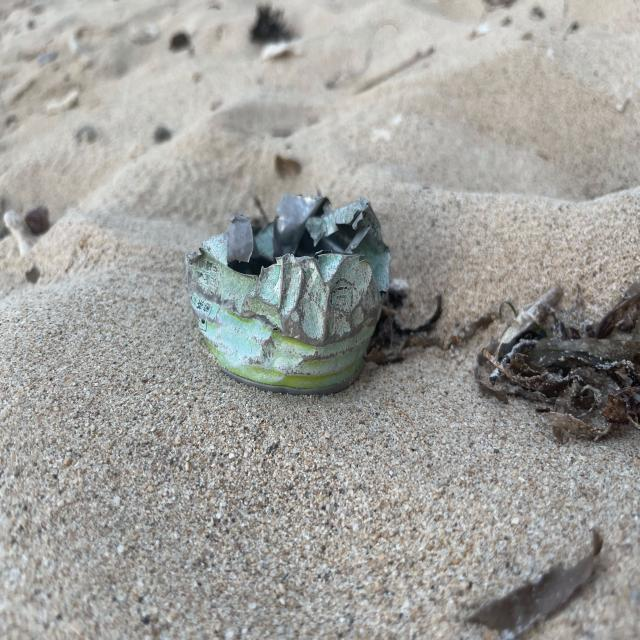seaweed: (482, 272, 640, 437)
trash: (181, 192, 395, 408)
